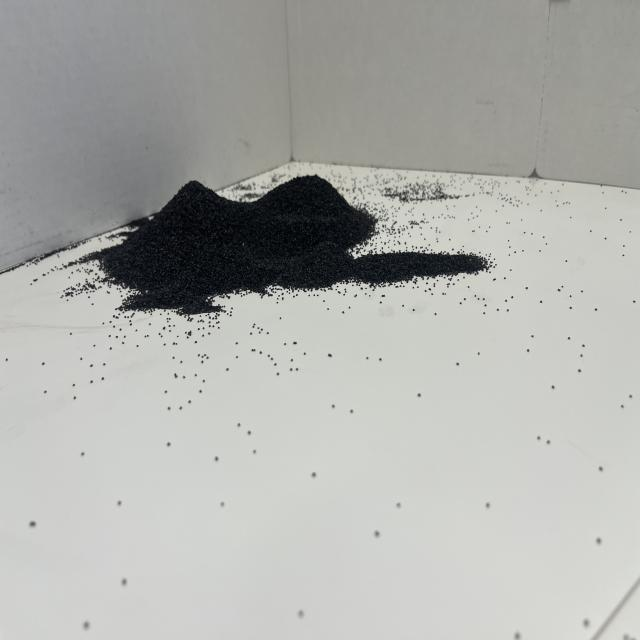Poppy Seeds: (77, 152, 493, 332)
